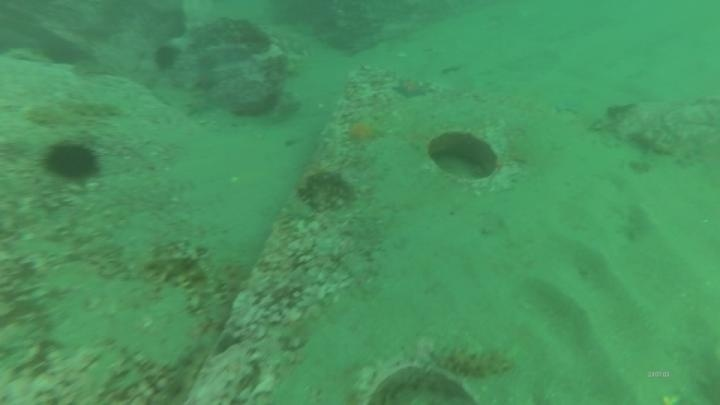echinus: (40, 139, 102, 184), (151, 42, 182, 73)
holothurian: (141, 245, 226, 318), (427, 340, 517, 382), (302, 171, 354, 210), (55, 94, 124, 122)
starfish: (341, 114, 387, 148), (390, 74, 433, 101)
